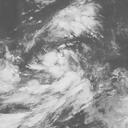cyclone: (31, 49, 85, 100)
